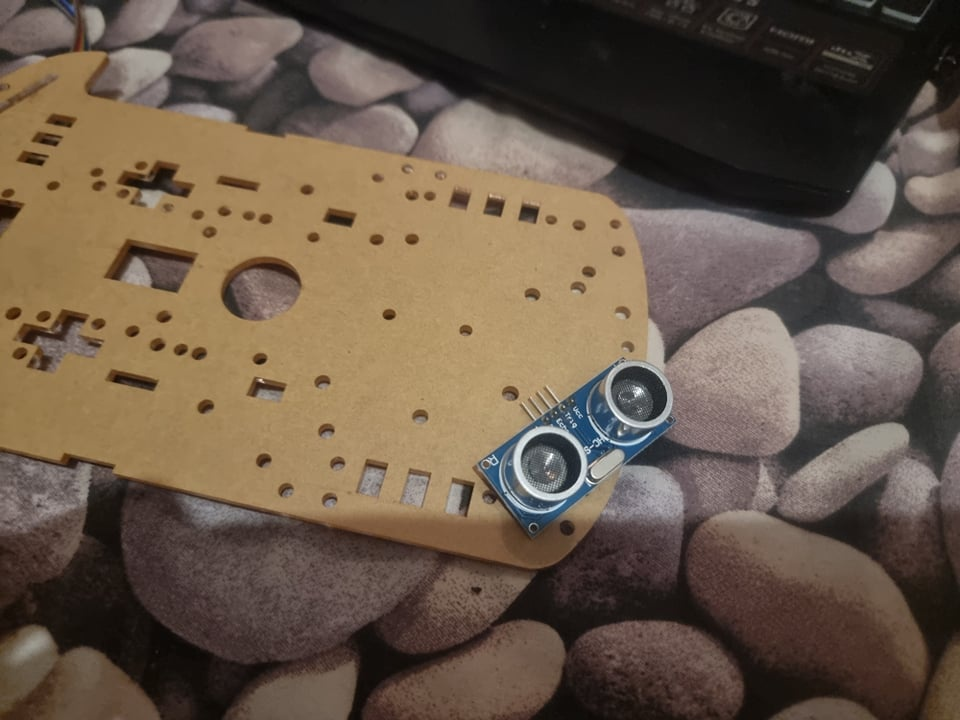SENSOR: (469, 358, 676, 542)
